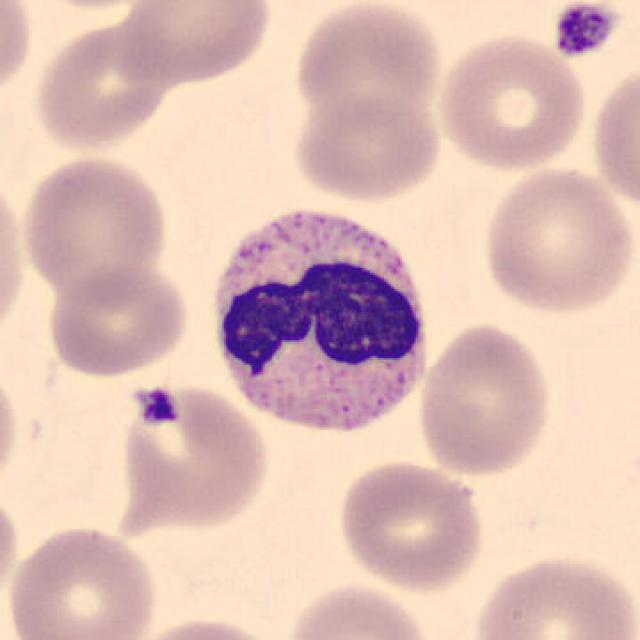Neutrophil: (204, 196, 436, 450)
Platelets: (550, 0, 622, 60), (134, 384, 182, 427)
RBC: (476, 162, 636, 318), (115, 379, 274, 534), (18, 150, 172, 301), (414, 319, 556, 480), (432, 30, 590, 173), (28, 9, 178, 155), (332, 457, 489, 594), (290, 2, 448, 130), (2, 520, 162, 640), (288, 88, 446, 203), (43, 261, 192, 381), (468, 550, 638, 640), (113, 0, 275, 86), (282, 580, 436, 640), (588, 55, 640, 218), (0, 167, 30, 351), (119, 613, 291, 640), (0, 0, 36, 113), (0, 358, 23, 499), (0, 483, 23, 615), (16, 0, 174, 14)
